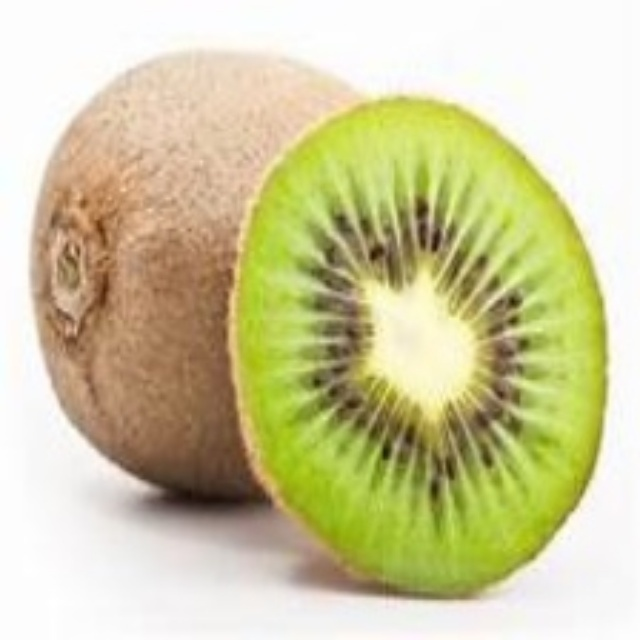kiwi: (224, 86, 615, 601), (41, 51, 399, 518)
